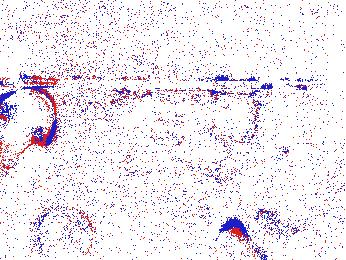flame jellyfish: (1, 87, 58, 177), (213, 208, 299, 260), (37, 205, 93, 260)
